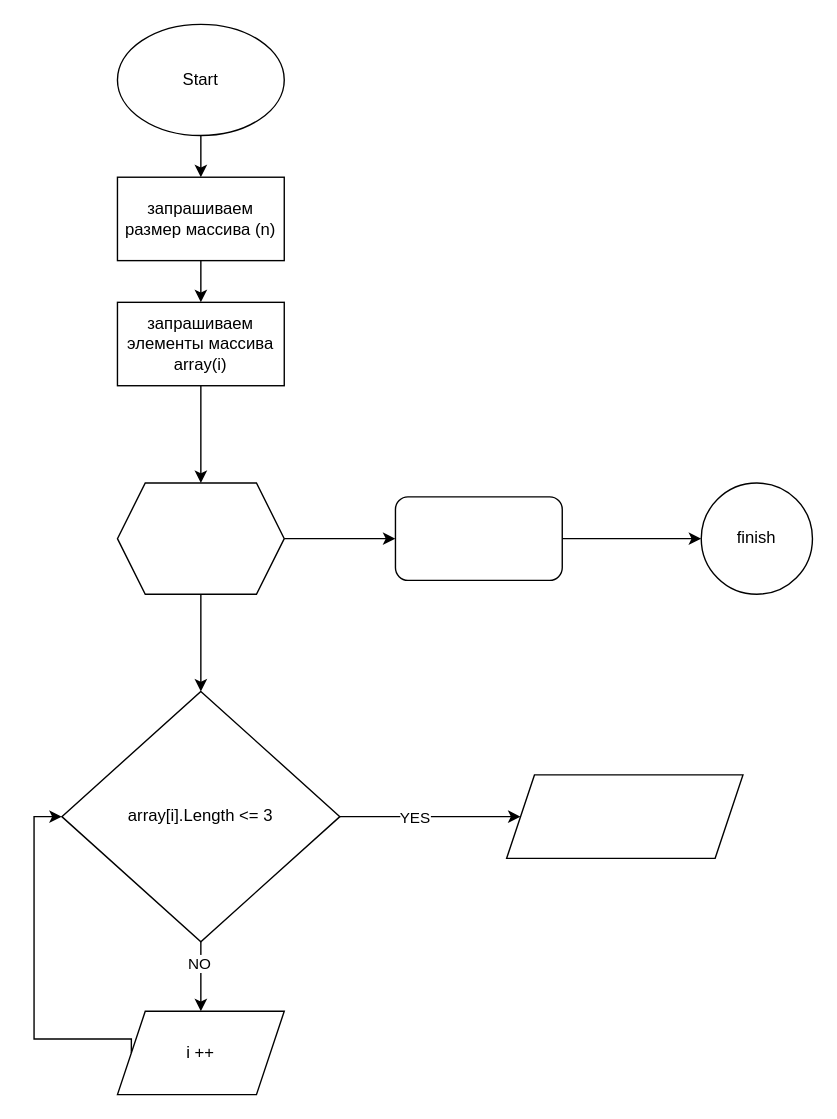
Some shapes in this 837 by 1119 pixel diagram are drawn without their labels. Here are the shapes that lost their labels. From the top down, the centre of each, then its label:
At (x=200, y=538): "int i = 0; i < n; i++".
At (x=478, y=538): "print newarray[]".
At (x=624, y=816): "newarray[j]=array[i] j++".
